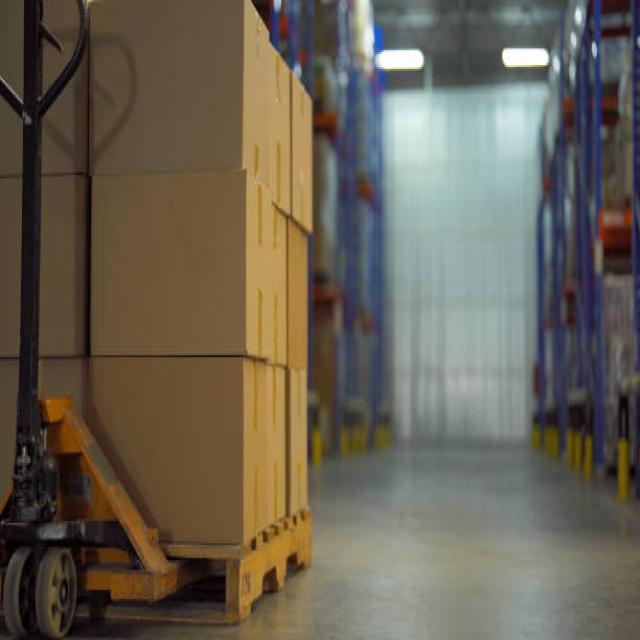Wooden-Pallets: (122, 505, 315, 627)
